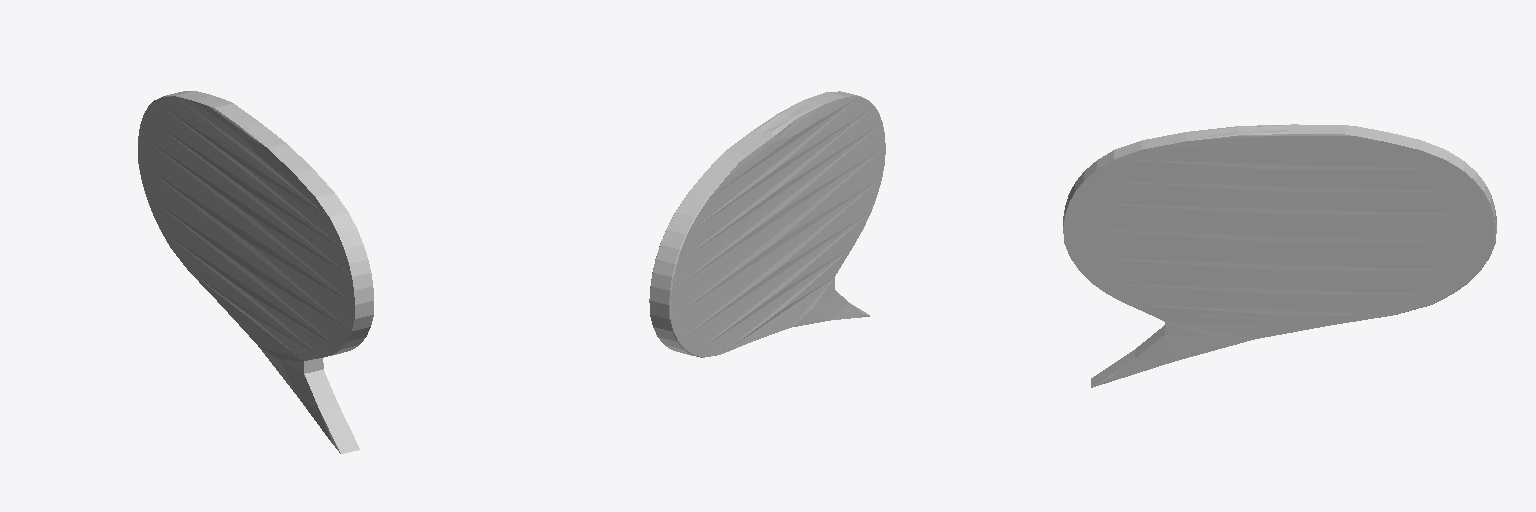
File: WordBubbleOutline.obj
The picture shows the model from 3 angles: view 1: azimuth 30°, elevation 25°; view 2: azimuth 150°, elevation 25°; view 3: azimuth 270°, elevation 25°; orthographic projection.
Parts seen in each view (by area): view 1: pCube1; view 2: pCube1; view 3: pCube1.
Boxes of the visible parts, x1=… form: pCube1: x1=138, y1=91, x2=373, y2=453; pCube1: x1=649, y1=91, x2=885, y2=357; pCube1: x1=1063, y1=124, x2=1496, y2=387.
Size of the model in its own units: 0.056 by 0.6507 by 1.01.